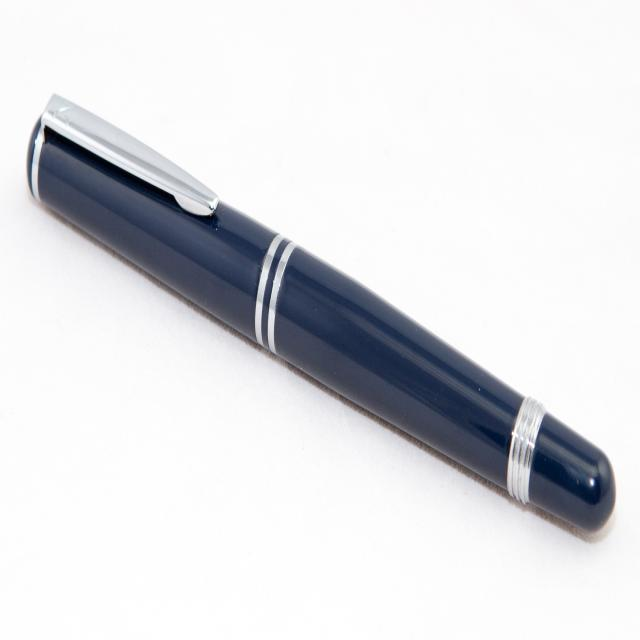pen: (25, 86, 618, 536)
